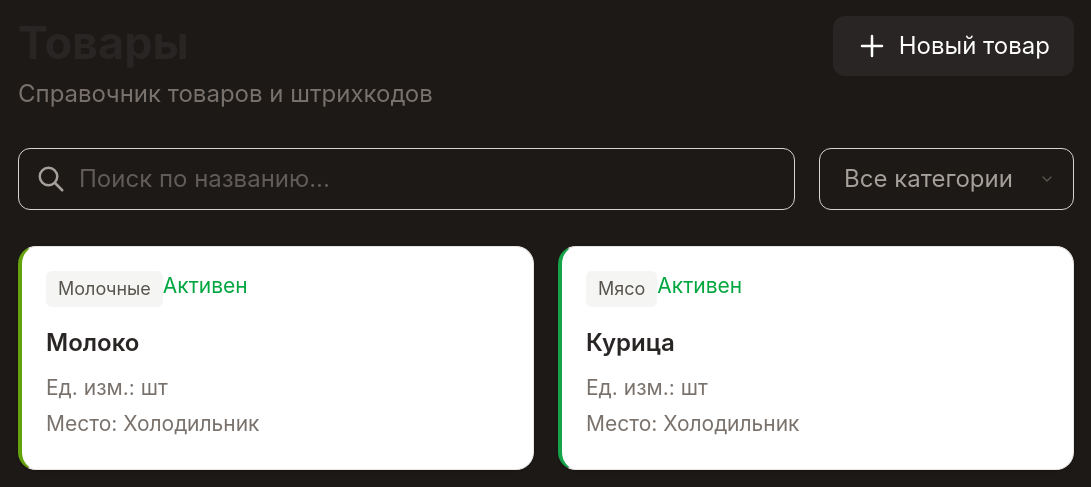
Test: ProductsPage › filters by search term
Expected: the heading "Молоко" is shown, [46, 325, 139, 361]
Expected: the heading "Курица" is shown, [586, 325, 675, 361]
Type in search
Type "Мол" into the field with placeholder "Поиск по названию...".
click(406, 179); type("Мол")  # box [18, 148, 795, 210]
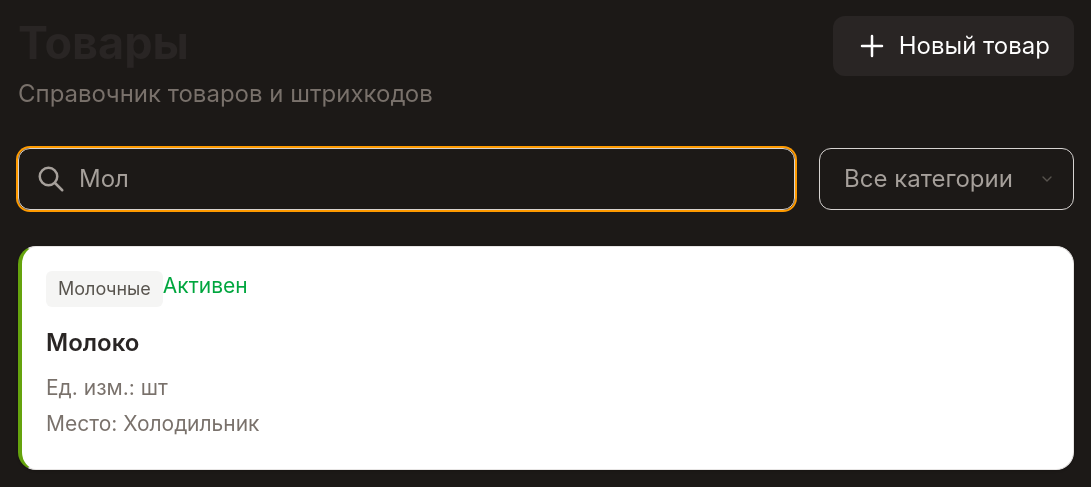
Expected: the heading "Молоко" is shown, [46, 325, 139, 361]
Result: the button "Курица" is gone
